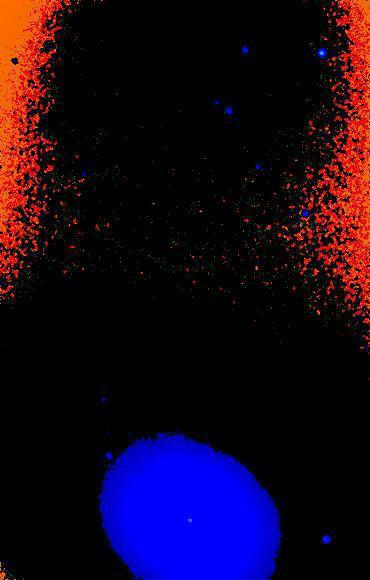star: (215, 554, 245, 580)
